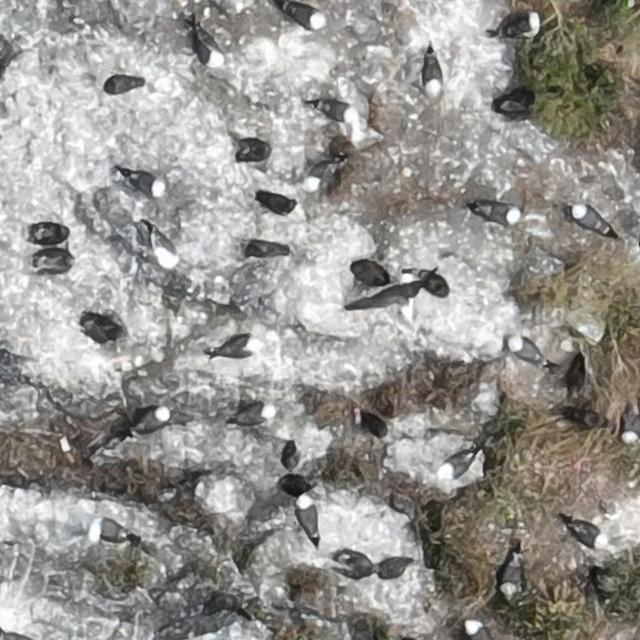F: (358, 271, 434, 308)
umineko: (304, 159, 345, 190), (192, 28, 222, 69), (568, 518, 608, 548), (152, 229, 178, 267), (88, 520, 132, 542), (508, 334, 542, 362), (123, 170, 163, 192), (83, 322, 124, 342), (314, 98, 354, 118), (288, 6, 322, 29), (481, 204, 521, 223), (296, 497, 316, 535), (230, 406, 272, 424), (215, 337, 254, 356), (138, 407, 168, 431), (442, 454, 473, 477), (574, 207, 602, 232), (623, 407, 640, 445), (503, 559, 521, 594), (21, 167, 54, 186), (423, 58, 441, 92), (506, 15, 538, 34), (467, 620, 490, 639)
